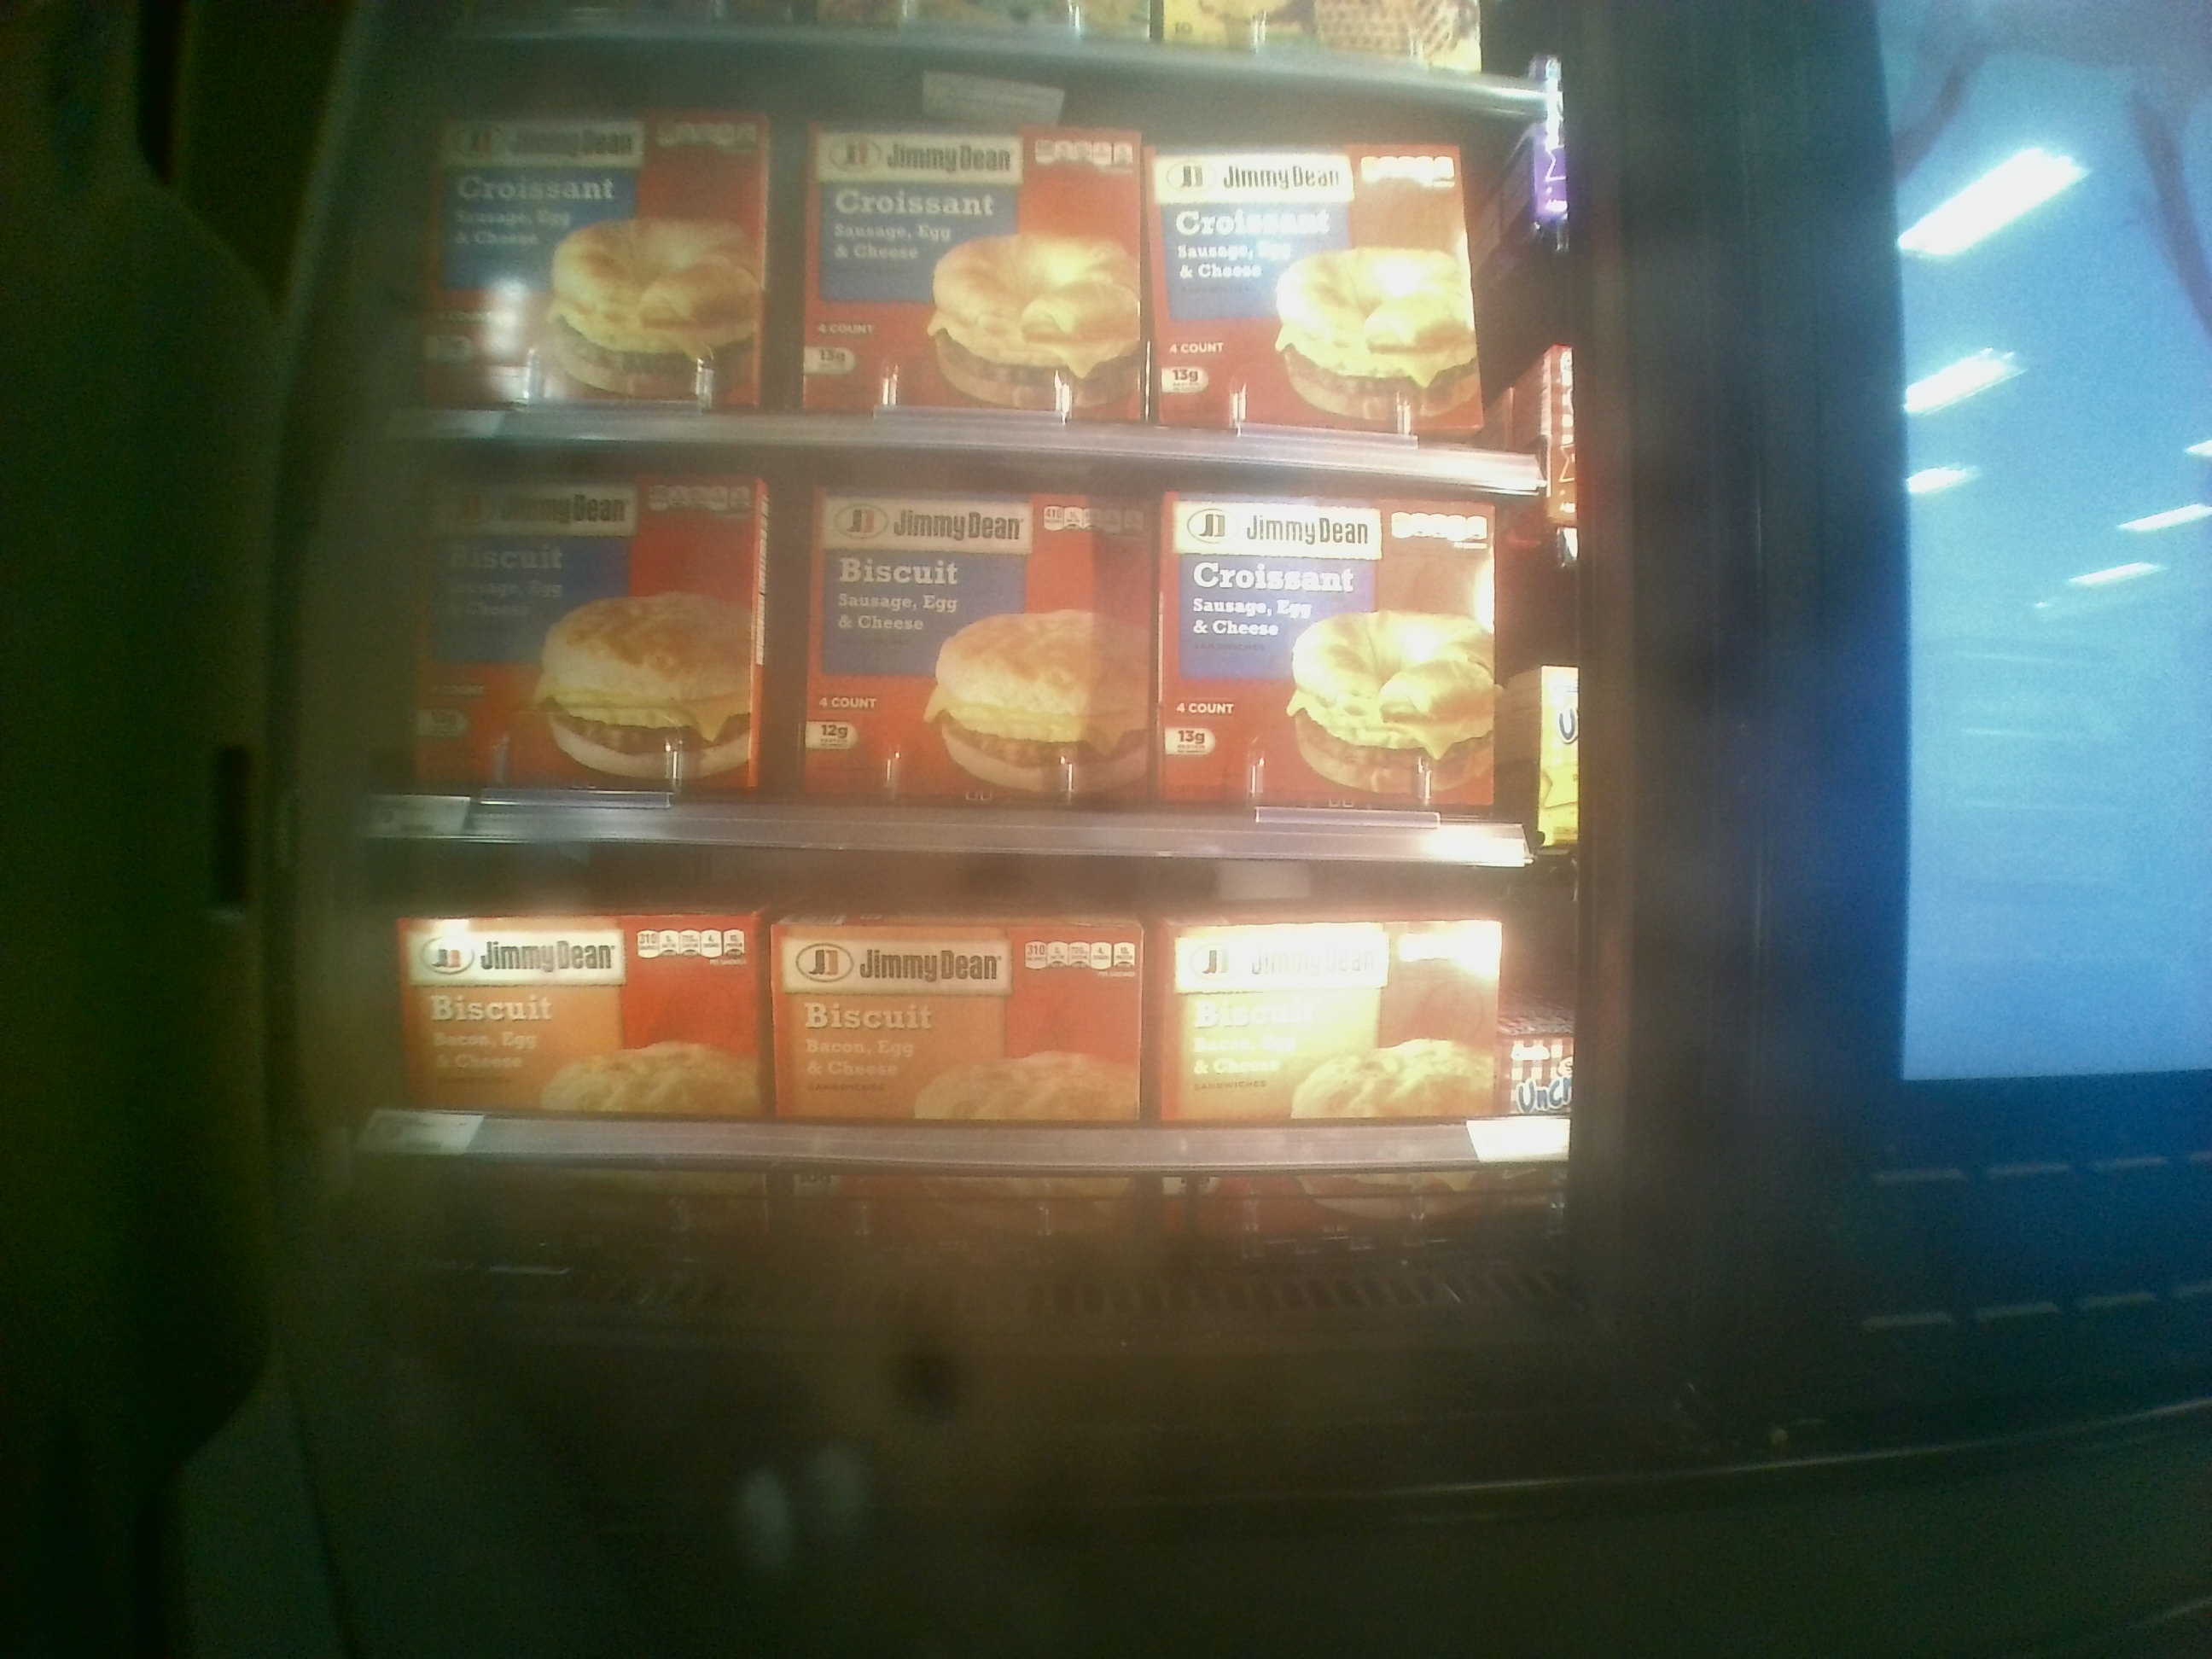shelf: (374, 847, 1578, 1333), (361, 443, 1564, 857)
